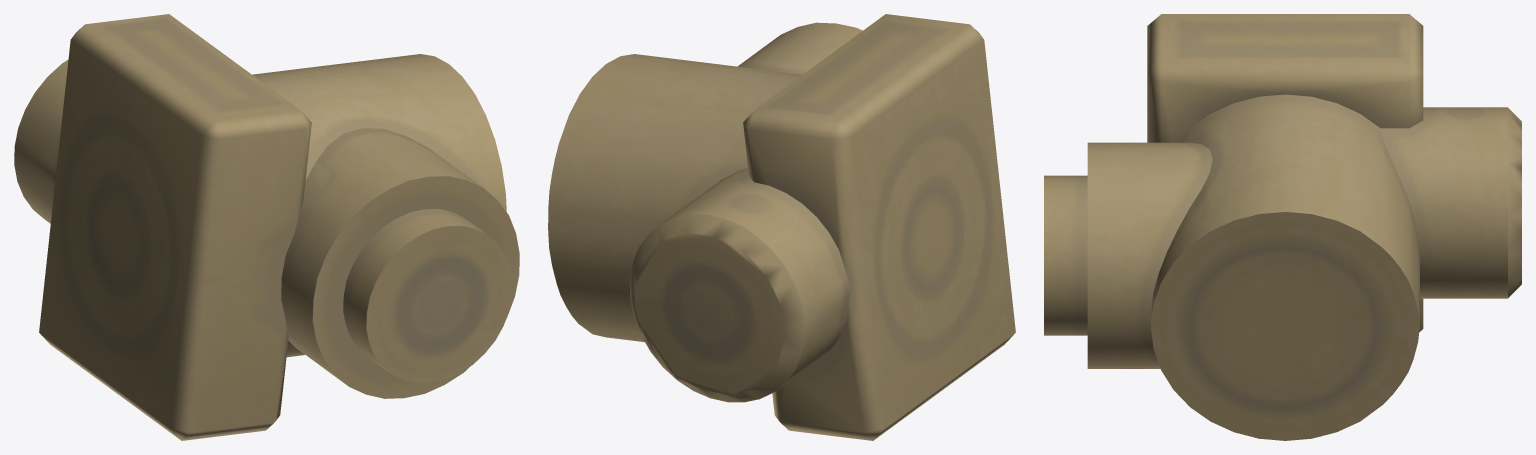
Rendered from SM_FireExtinguisher_Part_02.FBX.
3 views of the same model, side by side, from view 1: azimuth 30°, elevation 25°; view 2: azimuth 150°, elevation 25°; view 3: azimuth 270°, elevation 25° (orthographic). The views are drawn at different scales.
Parts seen in each view (by area): view 1: SM_FireExtinguisher_Part_02_LOD0; view 2: SM_FireExtinguisher_Part_02_LOD0; view 3: SM_FireExtinguisher_Part_02_LOD0.
Part boxes in pixels (x1,y1,x2,y2): SM_FireExtinguisher_Part_02_LOD0: (14,14,519,440); SM_FireExtinguisher_Part_02_LOD0: (548,14,1015,440); SM_FireExtinguisher_Part_02_LOD0: (1044,14,1521,440).
Size of the model in its own units: 4.9 by 6.24 by 4.38.
